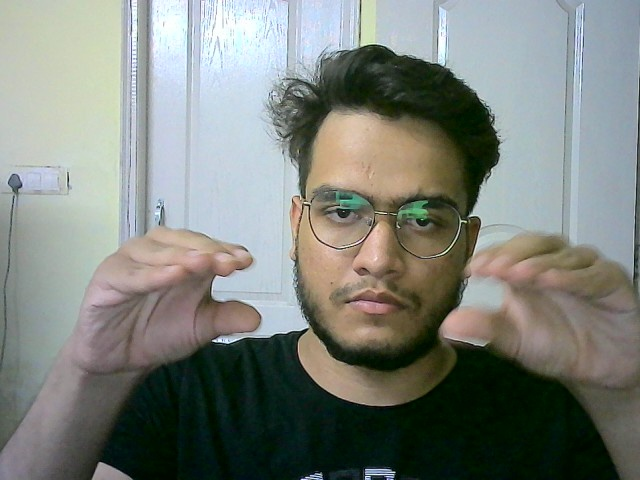No: (443, 229, 640, 385), (80, 221, 267, 379)
